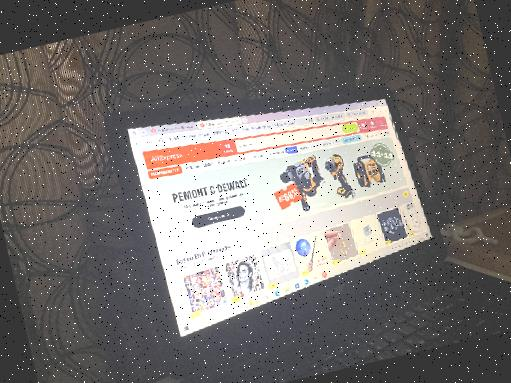aliexpress: (135, 90, 439, 328)
